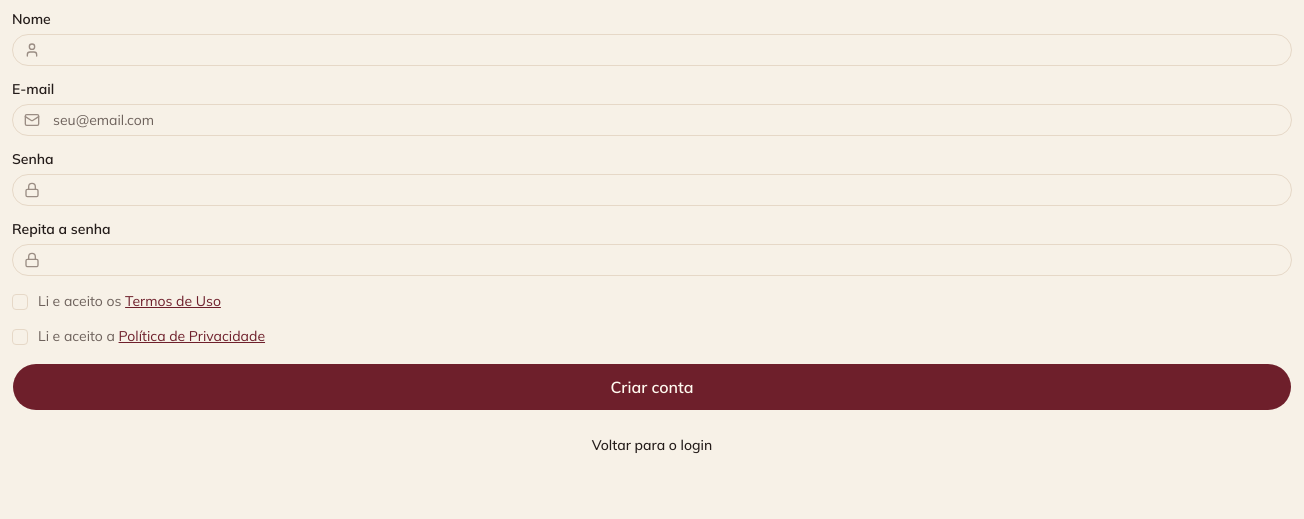
Test case: RegisterForm › blocks submit when terms are not accepted
The width and height of the screenshot is (1304, 519).
In the field labelled "Nome": (652, 50) [12, 34, 1292, 66], type "Ana"
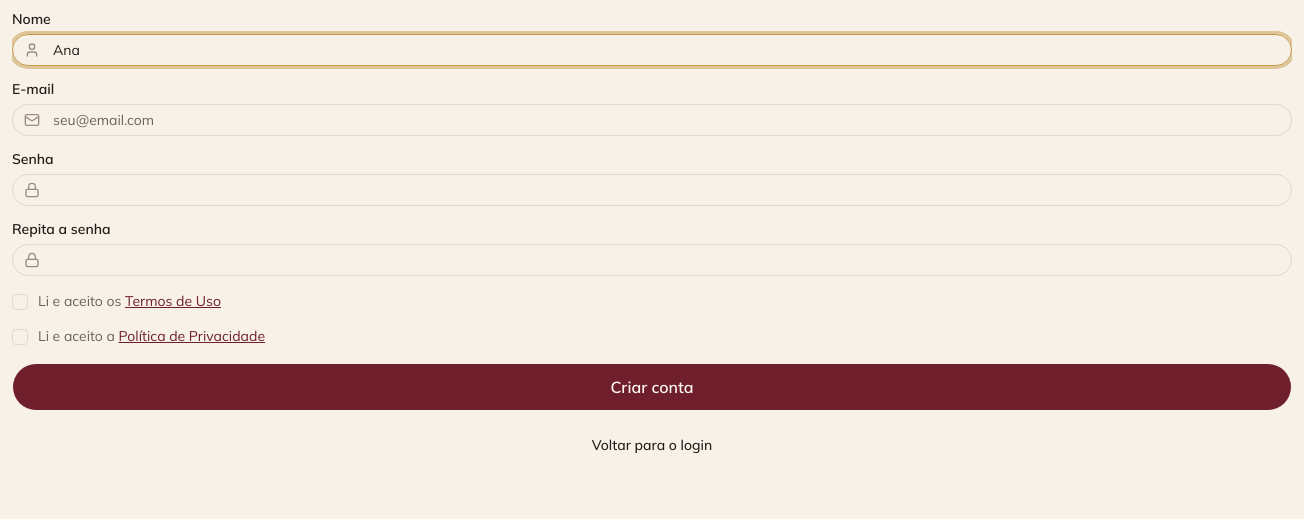
In the field labelled "E-mail": (652, 120) [12, 104, 1292, 136], type "a@b.c"
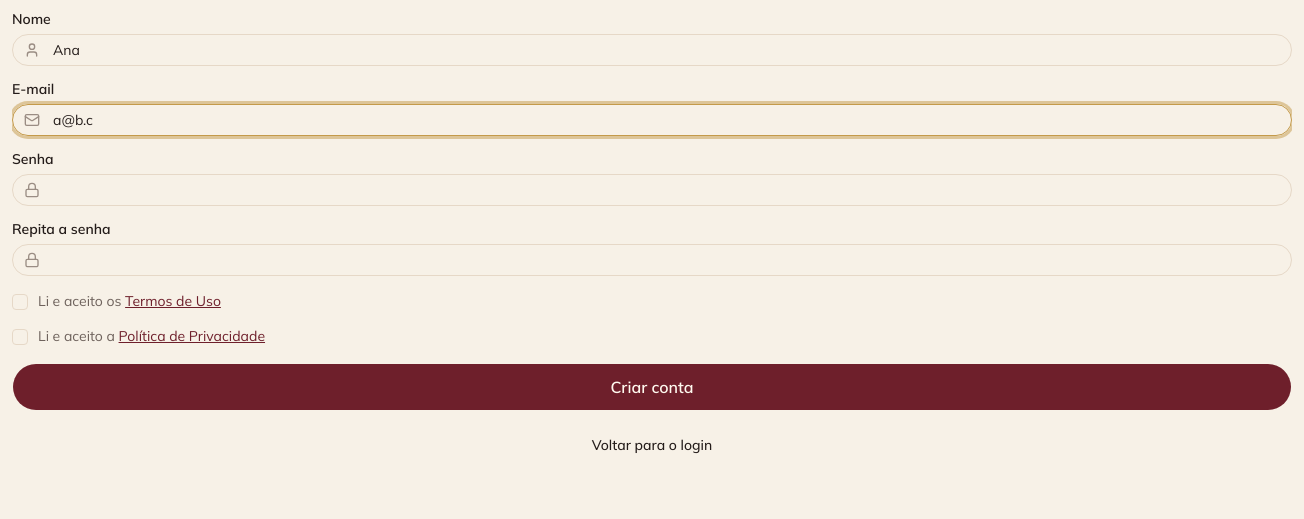
In the password field labelled "Senha": (652, 190) [12, 174, 1292, 206], type "123456"
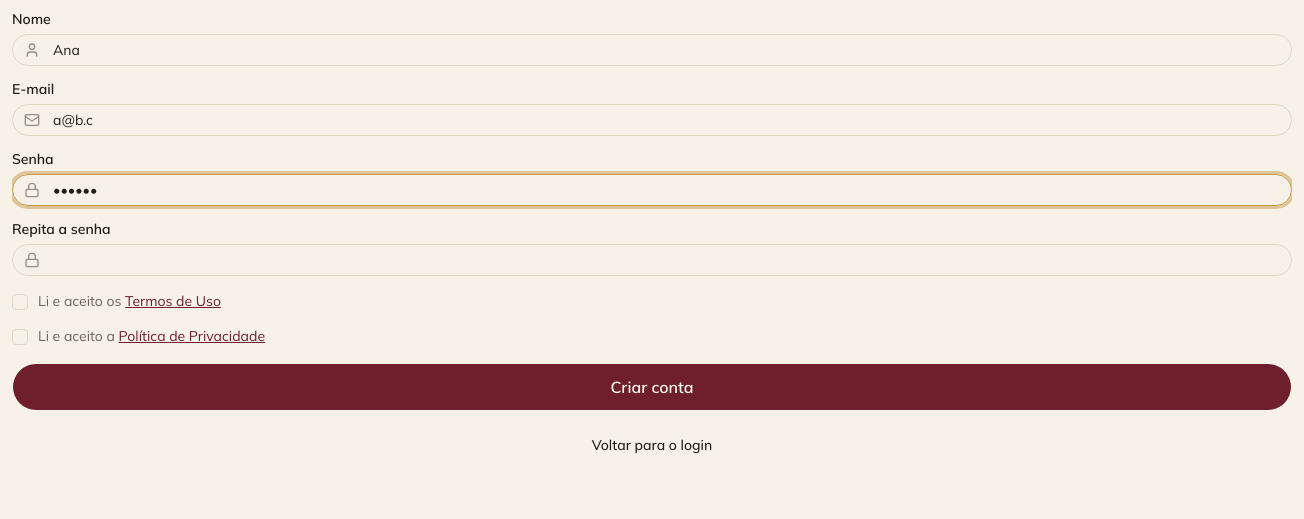
In the password field labelled "Repita a senha": (652, 260) [12, 244, 1292, 276], type "123456"
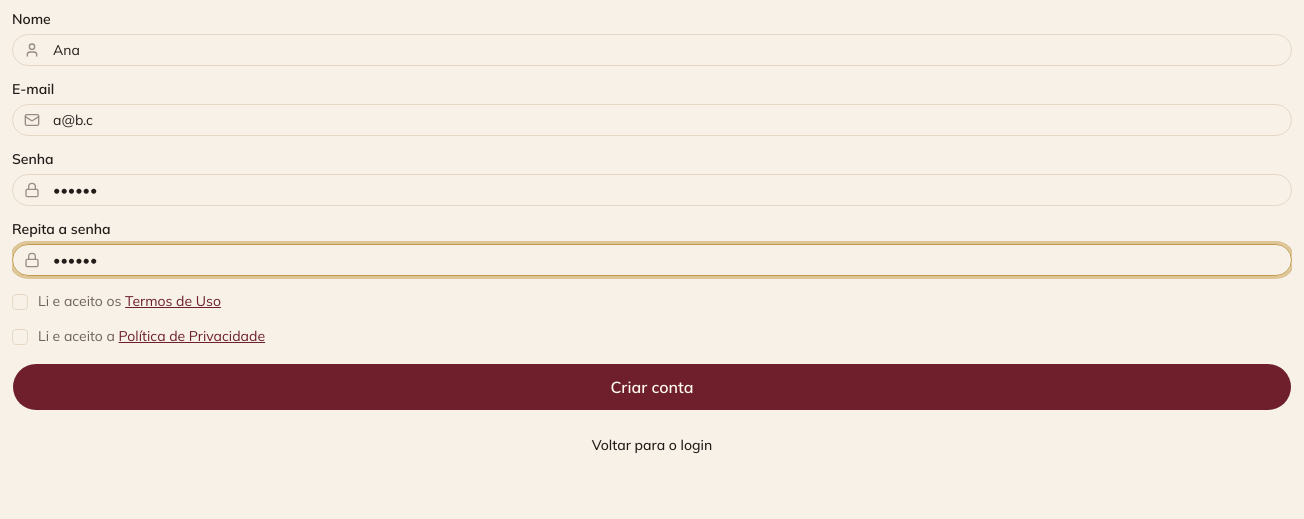
Click the button "Criar conta": (652, 386) [12, 362, 1292, 410]
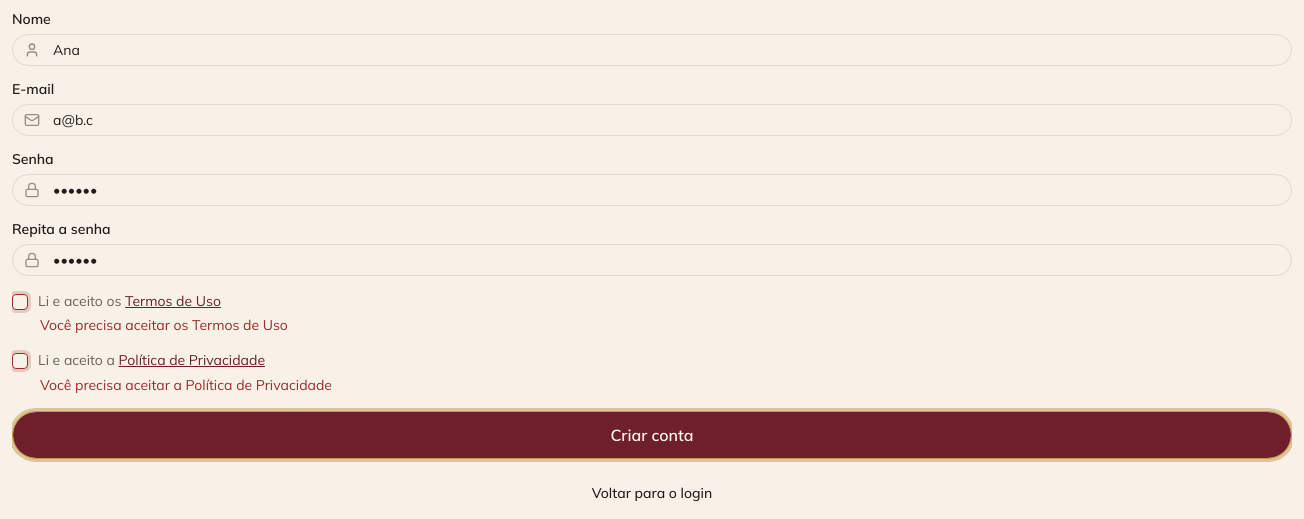
Expected: the text "Você precisa aceitar os Termos de Uso" is shown, [40, 316, 288, 334]
